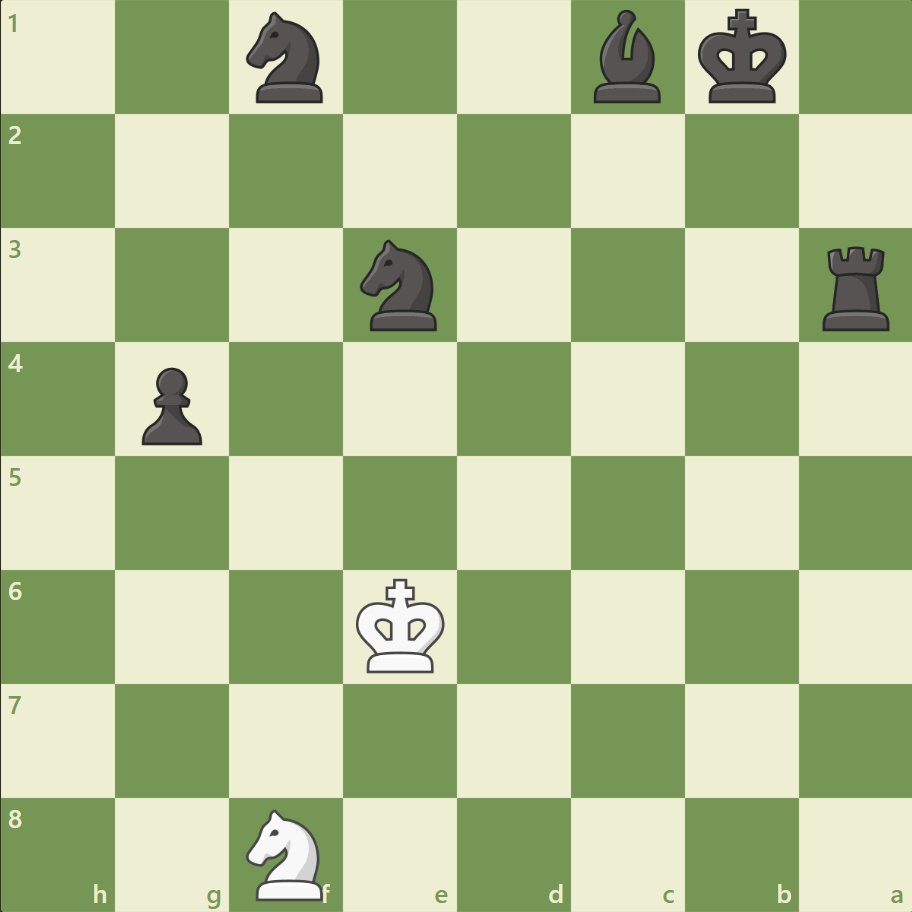K: (351, 571, 451, 679)
N: (238, 802, 335, 904)
b: (585, 6, 669, 109)
k: (692, 4, 792, 112)
n: (351, 234, 449, 337), (238, 7, 335, 110)
p: (133, 359, 208, 450)
r: (814, 239, 897, 336)
